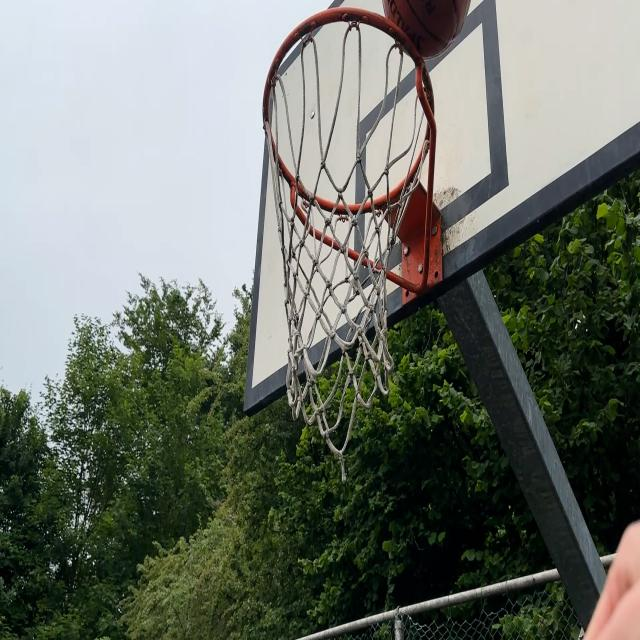rebound_hit: (383, 0, 470, 58)
